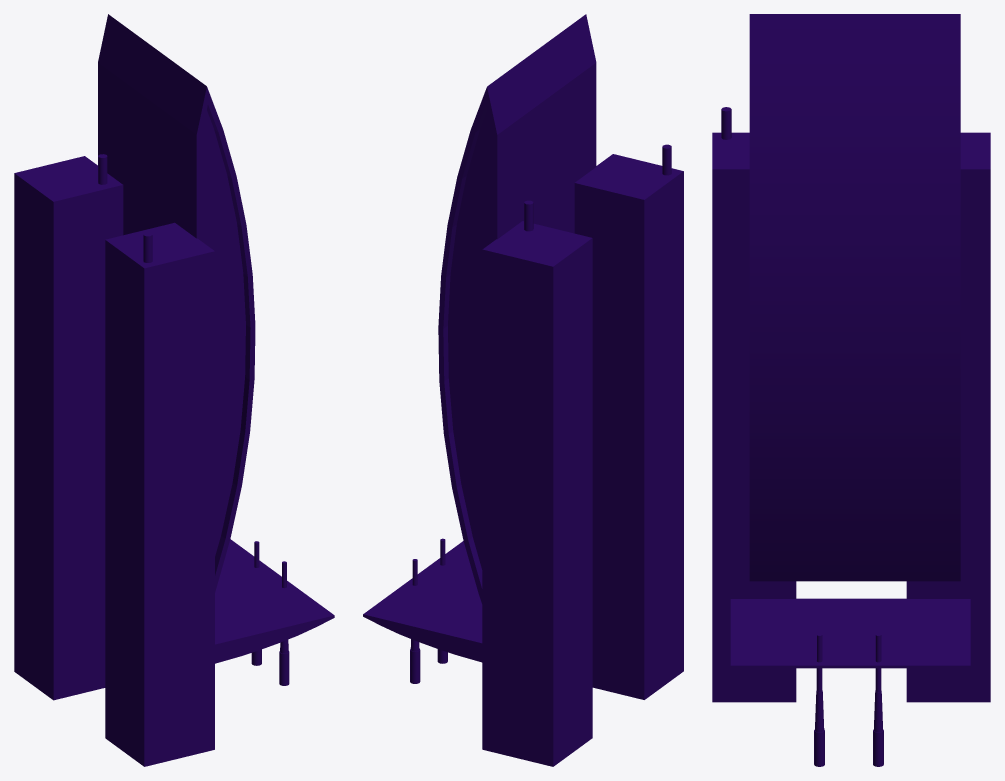
File: tour14.FBX
3 renders of one model, left to right at view 1: azimuth 30°, elevation 25°; view 2: azimuth 150°, elevation 25°; view 3: azimuth 270°, elevation 25°, orthographic. The views are drawn at different scales.
Visible parts, largest first — view 1: Tour14pillier2, Tour14pillier1, Tour14fenetre cote, tour14prehaut, tour14pillierprehaut; view 2: Tour14pillier1, Tour14pillier2, Tour14fenetre cote, tour14prehaut, tour14pillierprehaut001; view 3: Tour14fenetre cote, Tour14pillier2, Tour14pillier1, tour14prehaut, tour14pillierprehaut001, tour14pillierprehaut.
Boxes of the visible parts, <box> form: Tour14pillier2: <box>105,222,214,766</box>; Tour14pillier1: <box>14,156,123,700</box>; Tour14fenetre cote: <box>98,14,255,592</box>; tour14prehaut: <box>215,539,334,663</box>; tour14pillierprehaut: <box>279,561,289,685</box>; Tour14pillier1: <box>482,221,592,766</box>; Tour14pillier2: <box>574,154,683,699</box>; Tour14fenetre cote: <box>438,14,596,603</box>; tour14prehaut: <box>363,541,482,662</box>; tour14pillierprehaut001: <box>410,559,420,683</box>; Tour14fenetre cote: <box>749,14,960,581</box>; Tour14pillier2: <box>712,132,796,702</box>; Tour14pillier1: <box>906,132,990,702</box>; tour14prehaut: <box>730,598,970,668</box>; tour14pillierprehaut001: <box>873,633,883,766</box>; tour14pillierprehaut: <box>814,633,824,766</box>.
Size of the model in its own units: 510 by 1589 by 578.
